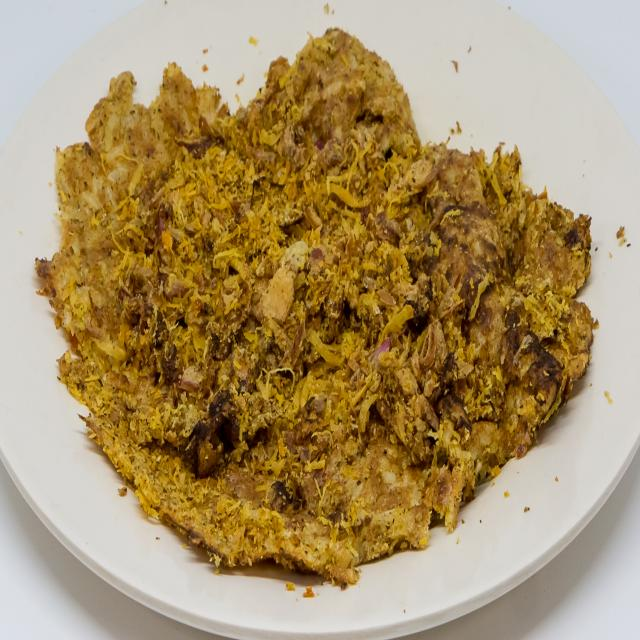Kerak-Telor: (43, 8, 612, 599)
